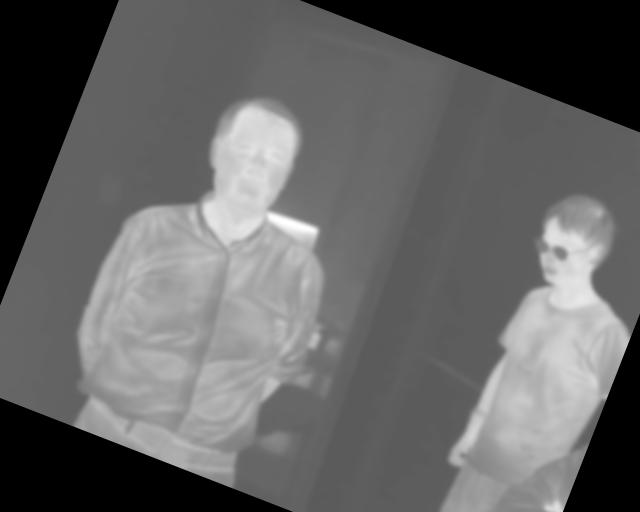face: (188, 81, 316, 231), (522, 180, 628, 301)
